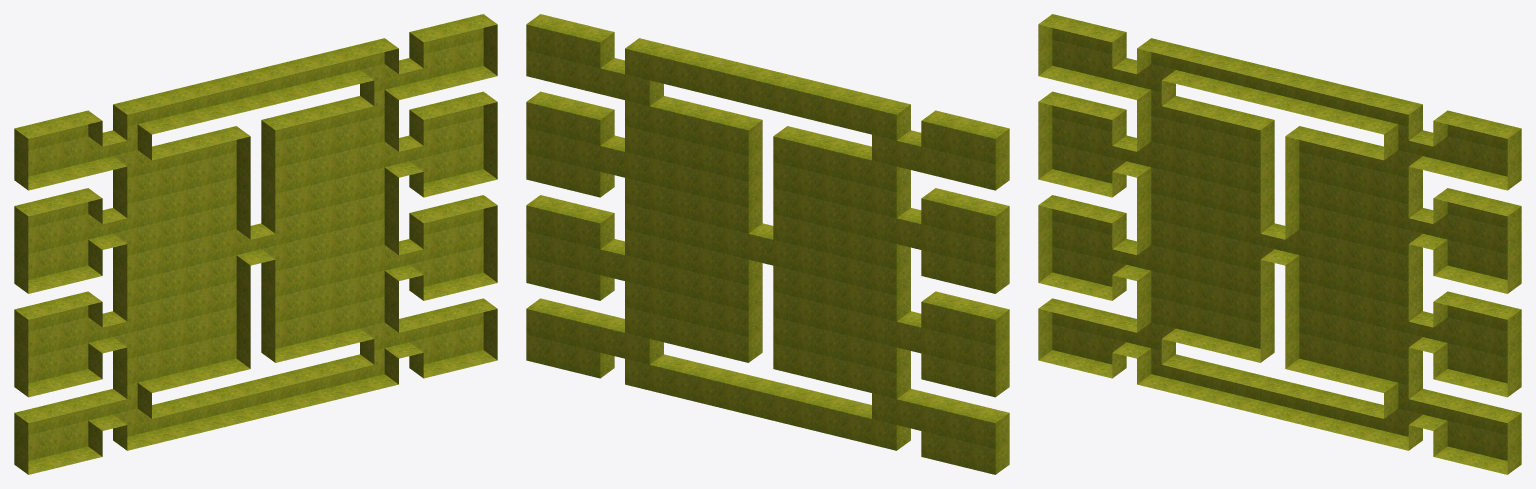
Rendered from normal.obj.
3 renders of one model, left to right at view 1: azimuth 30°, elevation 25°; view 2: azimuth 150°, elevation 25°; view 3: azimuth 330°, elevation 25°, orthographic.
Size of the model in its own units: 19 by 13 by 1.
